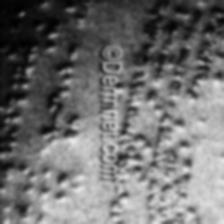Toxin: (120, 0, 216, 224), (0, 0, 86, 224)
